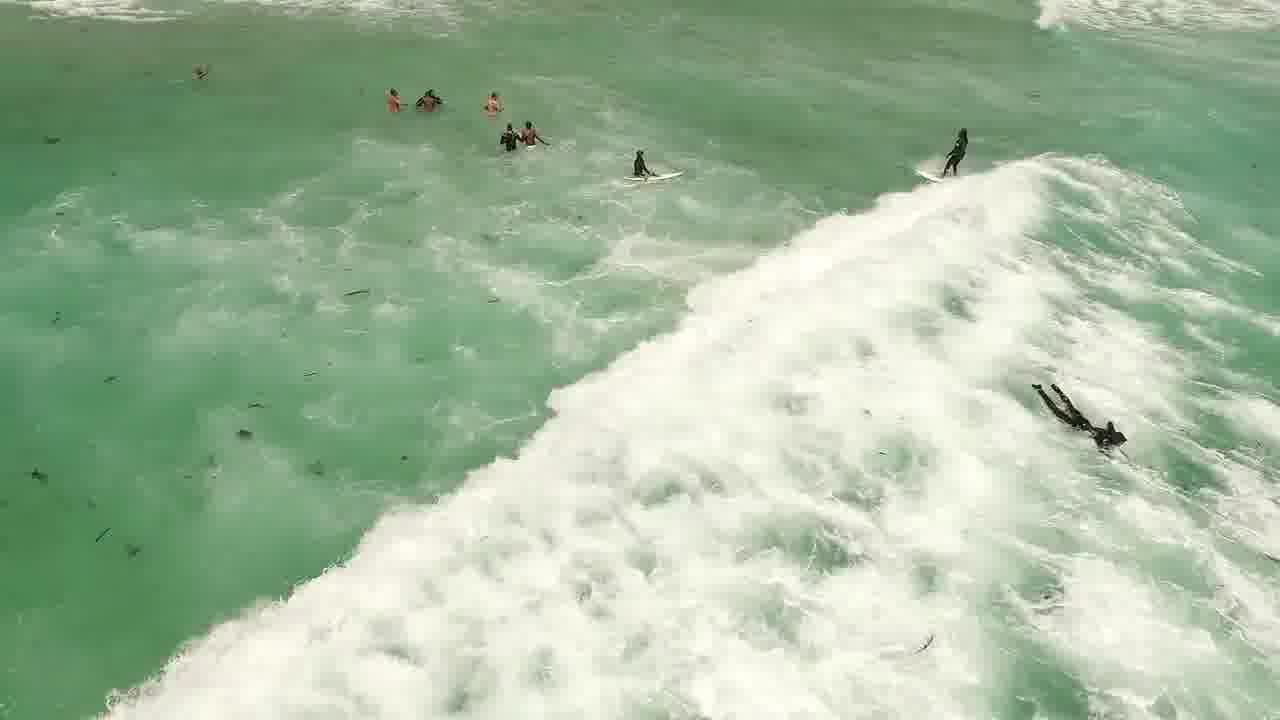human: (179, 54, 225, 87), (473, 87, 519, 120), (406, 84, 449, 116), (380, 80, 409, 111)
